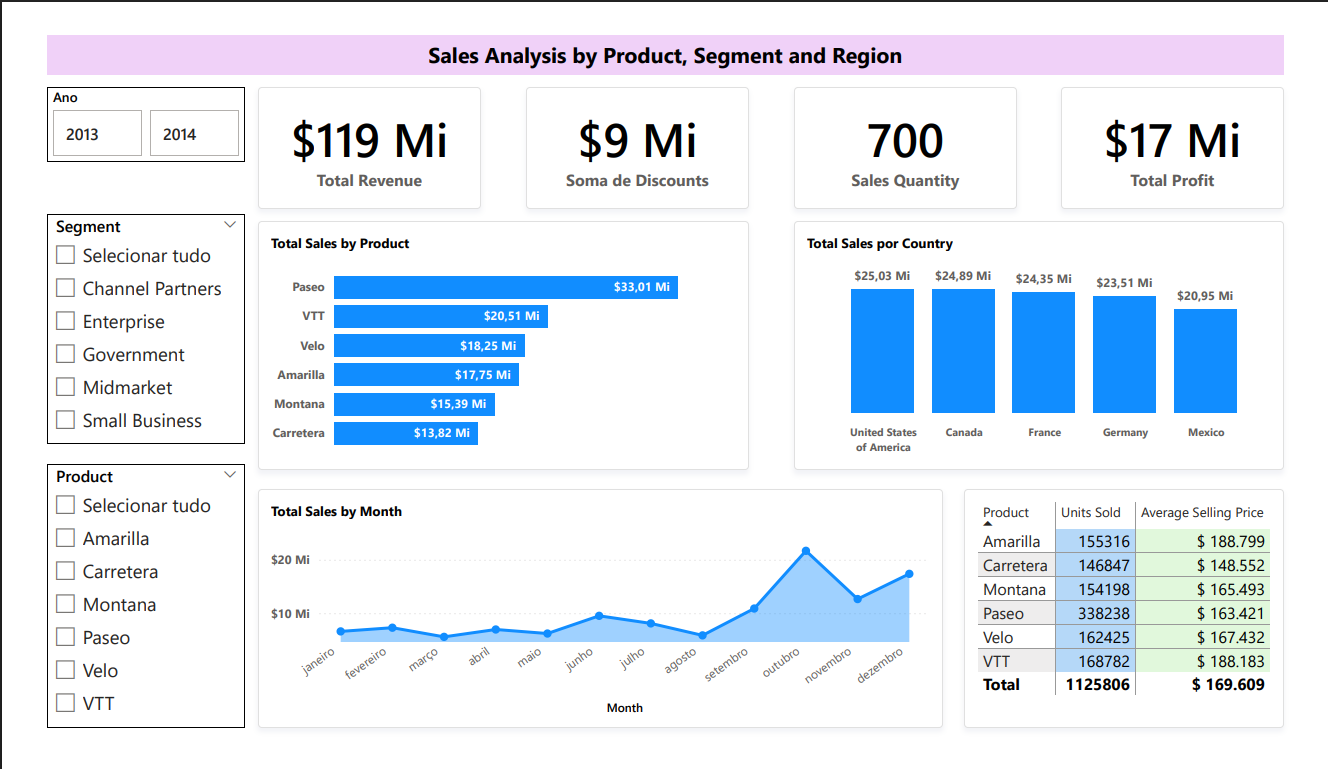

The dashboard page shown, as its layout file describes it:
{"tool":"powerbi","page":{"name":"Dashboard - Sales","canvas":[1280,720],"ordinal":0},"visuals":[{"type":"clusteredBarChart","title":"Total Sales by Product","fields":{"Category":["financials.Product"],"Y":["Sum(financials.Sales)"]},"box":[232.1,194.5,491.2,249],"z":0},{"type":"tableEx","fields":{"Values":["financials.Product","Sum(financials.Units Sold)","Avg(financials.Sales)"]},"box":[938.2,463,320,239.3],"z":1000},{"type":"card","fields":{"Values":["Sum(financials.Sales)"]},"box":[231.9,60.9,223,121.8],"z":2000},{"type":"card","fields":{"Values":["Sum(financials.Profit)"]},"box":[1035.2,60.9,223,121.8],"z":3000},{"type":"card","fields":{"Values":["CountNonNull(financials.Sales)"]},"box":[768.4,60.9,223,121.8],"z":4000},{"type":"columnChart","fields":{"Y":["Sum(financials.Sales)","select"],"Category":["financials.Country"]},"box":[768,194.5,490.2,249],"z":5000},{"type":"card","fields":{"Values":["Sum(financials.Discounts)"]},"box":[499.7,60.9,223,121.8],"z":6000},{"type":"lineChart","title":"Total Sales by Month","fields":{"Category":["financials.Country","financials.Date.Variation.Hierarquia de datas.Mês"],"Y":["Sum(financials.Sales)"]},"box":[232.1,463,684.7,239.3],"z":7000},{"type":"slicer","fields":{"Values":["financials.Segment"]},"box":[21,187.7,198.4,230.5],"z":8000},{"type":"slicer","fields":{"Values":["financials.Product"]},"box":[21,437.7,198.4,264.6],"z":9000},{"type":"advancedSlicerVisual","fields":{"Values":["financials.Date.Variation.Hierarquia de datas.Ano"]},"box":[20.6,60.9,198.8,75.2],"z":10000},{"type":"textbox","box":[20.6,9,1237.6,40.3],"z":11000}]}

Visuals, with their boxes in screenshot pixels (x1, y1, x2, y2), scaled from the page's 1280x720 canvas onto the 1328x769 screenshot:
"Total Sales by Product" clusteredBarChart: left=241, top=208, right=750, bottom=474
tableEx - financials.Product x Sum(financials.Units Sold): left=973, top=495, right=1305, bottom=750
card - Sum(financials.Sales): left=241, top=65, right=472, bottom=195
card - Sum(financials.Profit): left=1074, top=65, right=1305, bottom=195
card - CountNonNull(financials.Sales): left=797, top=65, right=1029, bottom=195
columnChart - Sum(financials.Sales) x select: left=797, top=208, right=1305, bottom=474
card - Sum(financials.Discounts): left=518, top=65, right=750, bottom=195
"Total Sales by Month" lineChart: left=241, top=495, right=951, bottom=750
slicer - financials.Segment: left=22, top=200, right=228, bottom=447
slicer - financials.Product: left=22, top=467, right=228, bottom=750
advancedSlicerVisual - financials.Date.Variation.Hierarquia de datas.Ano: left=21, top=65, right=228, bottom=145
textbox: left=21, top=10, right=1305, bottom=53
